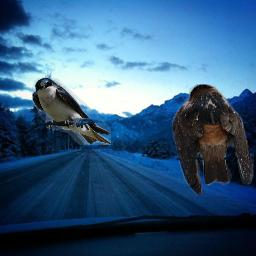Swallow: (172, 84, 254, 196), (32, 78, 111, 145)
